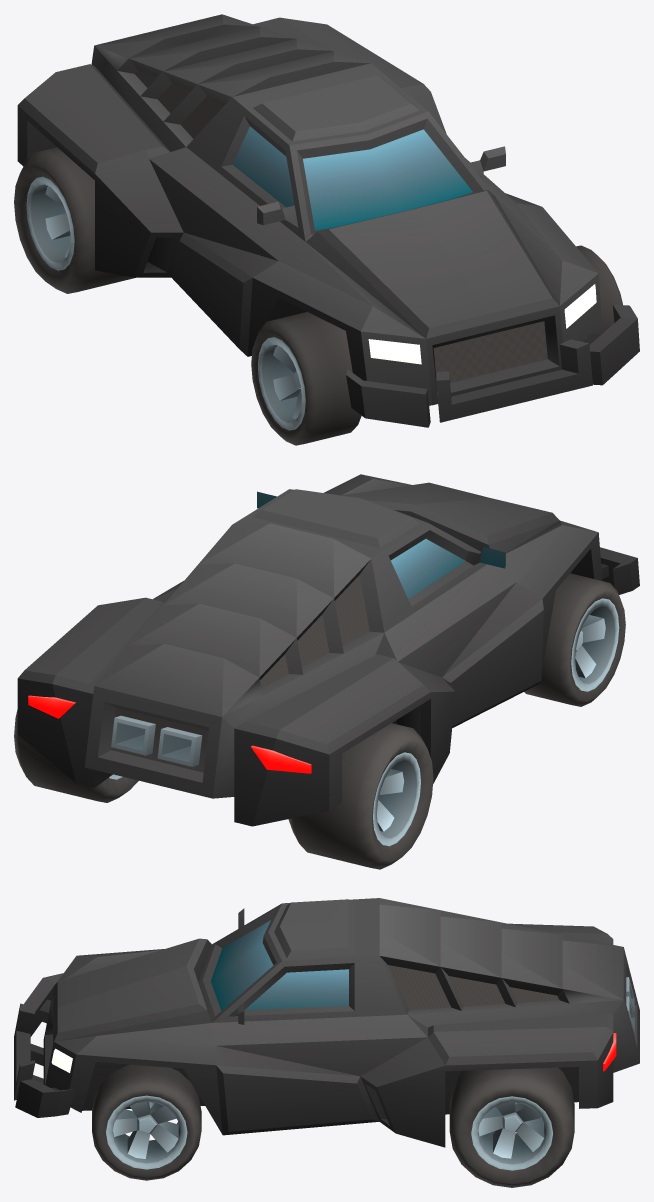
Rendered from ToyCar-black.glb.
3 renders of one model, top to bottom at view 1: azimuth 30°, elevation 25°; view 2: azimuth 150°, elevation 25°; view 3: azimuth 270°, elevation 25°, orthographic. The views are drawn at different scales.
Visible parts, largest first — view 1: Armor, FR_wheel, RR_wheel, FL_wheel; view 2: Armor, RR_wheel, FR_wheel, RL_wheel; view 3: Armor, RL_wheel, FL_wheel.
Boxes of the visible parts, x1,y1,x2,y2 form: Armor: [17, 14, 639, 427]; FR_wheel: [251, 312, 361, 445]; RR_wheel: [14, 147, 135, 293]; FL_wheel: [576, 245, 622, 332]; Armor: [17, 474, 639, 826]; RR_wheel: [288, 723, 433, 869]; FR_wheel: [524, 573, 625, 706]; RL_wheel: [14, 709, 138, 802]; Armor: [14, 898, 639, 1147]; RL_wheel: [449, 1067, 574, 1187]; FL_wheel: [92, 1064, 201, 1180].
Bounding box in the file's own units: 2.23 × 1.41 × 3.98.
1 material, 1 textured.
